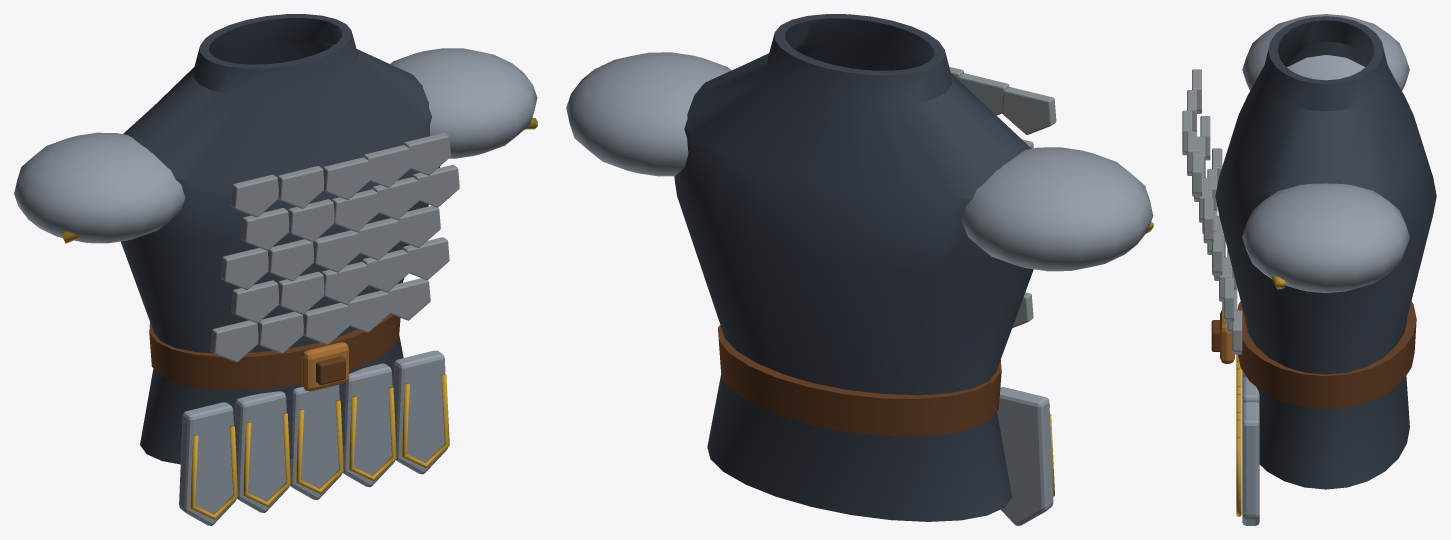
Rendered from armor_scale.fbx.
The picture shows the model from 3 angles, left to right: view 1: azimuth 30°, elevation 25°; view 2: azimuth 150°, elevation 25°; view 3: azimuth 270°, elevation 25°; orthographic projection. The views are drawn at different scales.
Parts seen in each view (by area): view 1: armor_scale; view 2: armor_scale; view 3: armor_scale.
Boxes of the visible parts, x1=… form: armor_scale: x1=14, y1=14, x2=537, y2=525; armor_scale: x1=566, y1=14, x2=1153, y2=525; armor_scale: x1=1182, y1=14, x2=1436, y2=525.
Size of the model in its own units: 0.8556 by 0.6979 by 0.3795.
